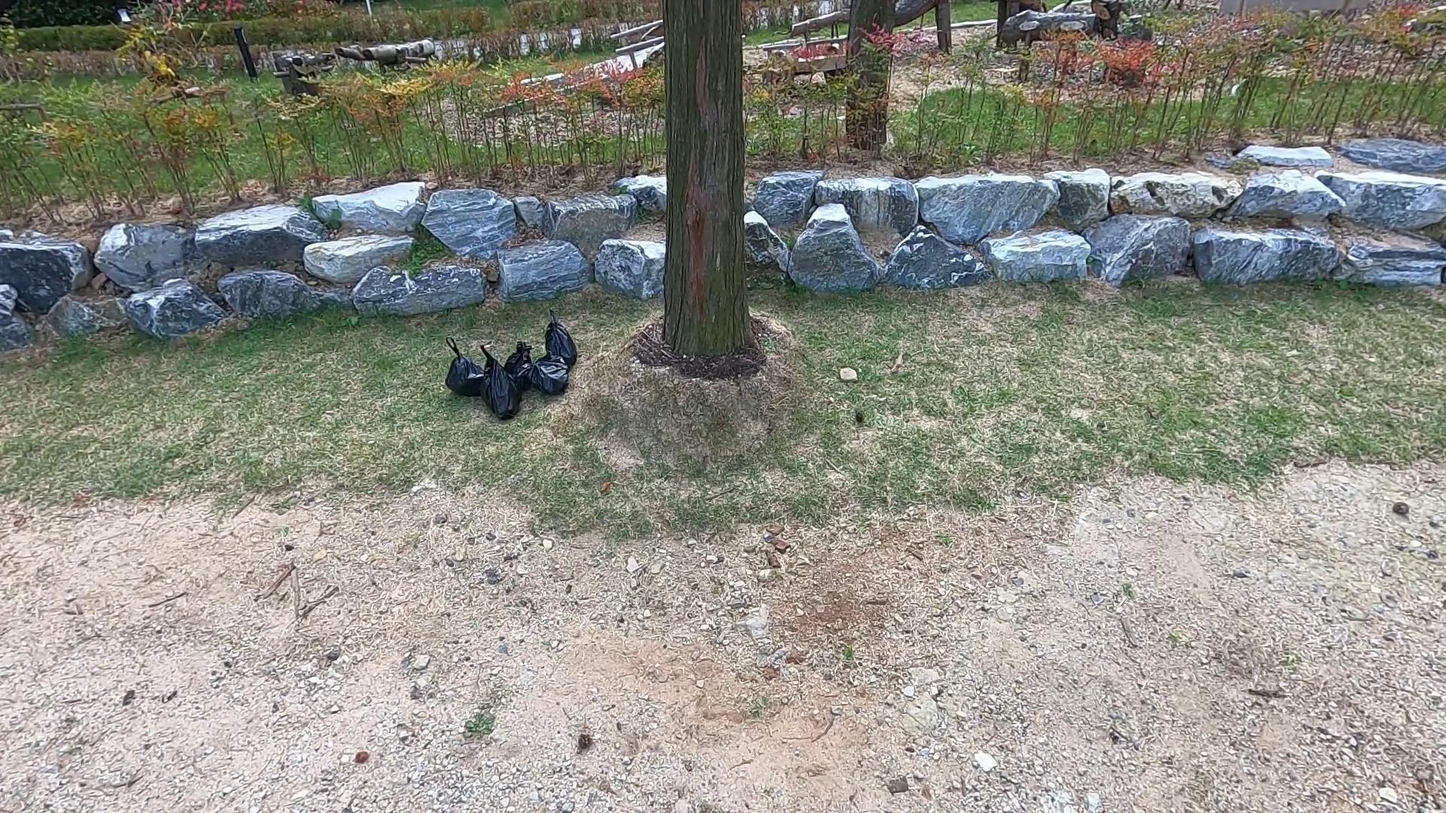trash: (473, 339, 521, 418), (441, 332, 491, 398), (539, 308, 581, 371), (526, 350, 574, 402), (498, 339, 538, 394)
